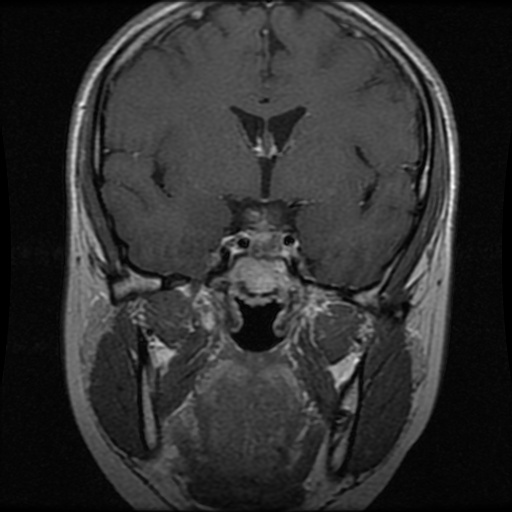pituitary: (251, 229, 284, 257)
